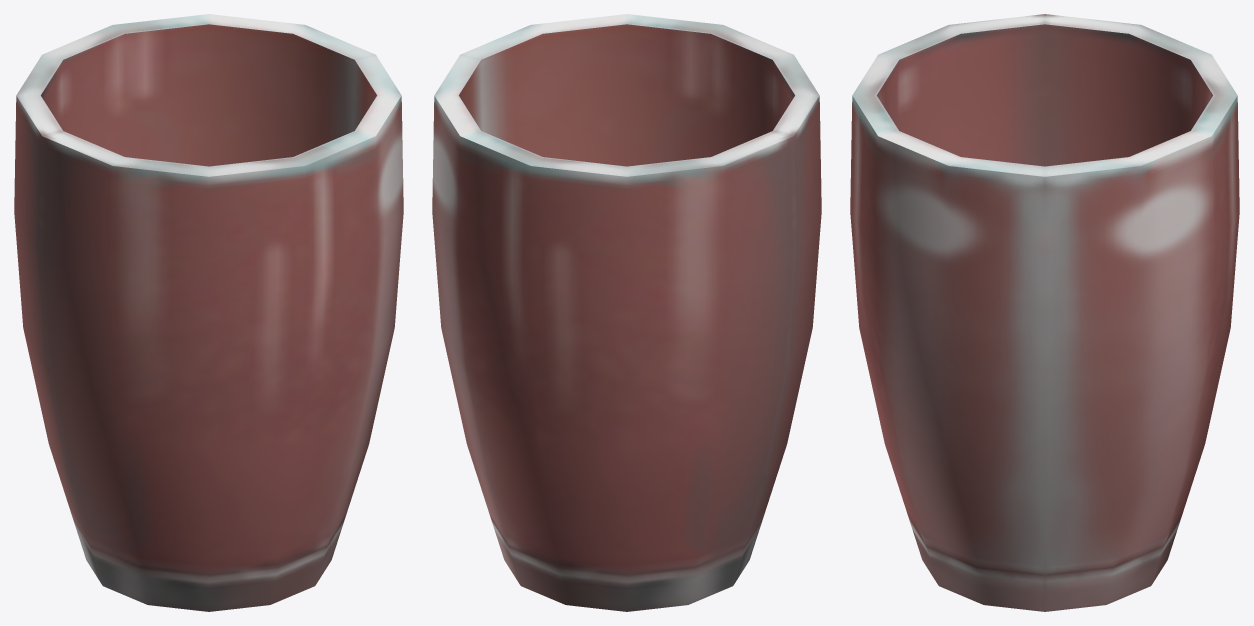
Rendered from ZhiBanShi_01_bolibei_01.FBX.
3 renders of one model, left to right at view 1: azimuth 30°, elevation 25°; view 2: azimuth 150°, elevation 25°; view 3: azimuth 270°, elevation 25°, orthographic.
Parts seen in each view (by area): view 1: ZhiBanShi_beizi_01; view 2: ZhiBanShi_beizi_01; view 3: ZhiBanShi_beizi_01.
Part boxes in pixels (x1=…): ZhiBanShi_beizi_01: x1=14, y1=14, x2=403, y2=611; ZhiBanShi_beizi_01: x1=432, y1=14, x2=821, y2=611; ZhiBanShi_beizi_01: x1=850, y1=14, x2=1239, y2=611.
Size of the model in its own units: 44.9 by 59.1 by 44.9.
